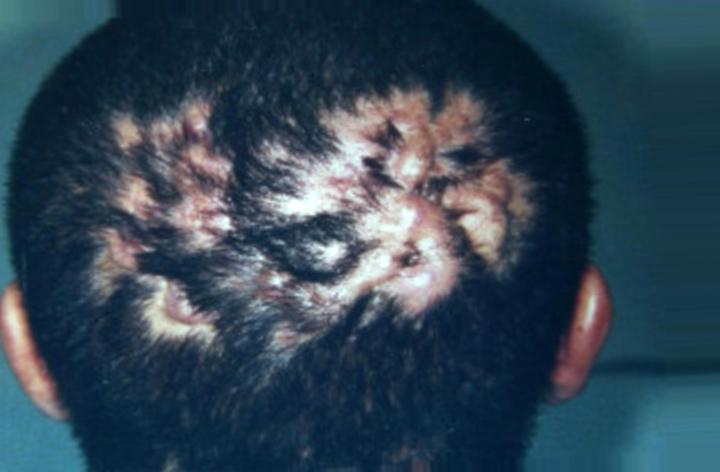Folliculitis: (334, 163, 492, 282), (137, 193, 216, 350)
